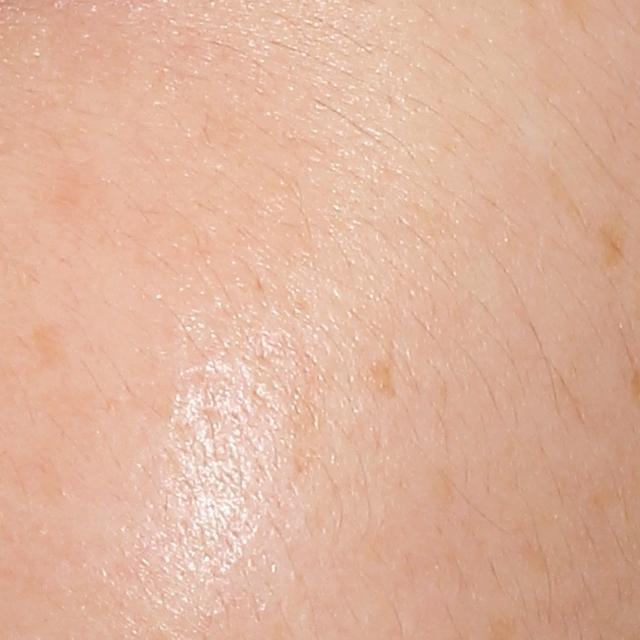melasma: (594, 217, 628, 274)
